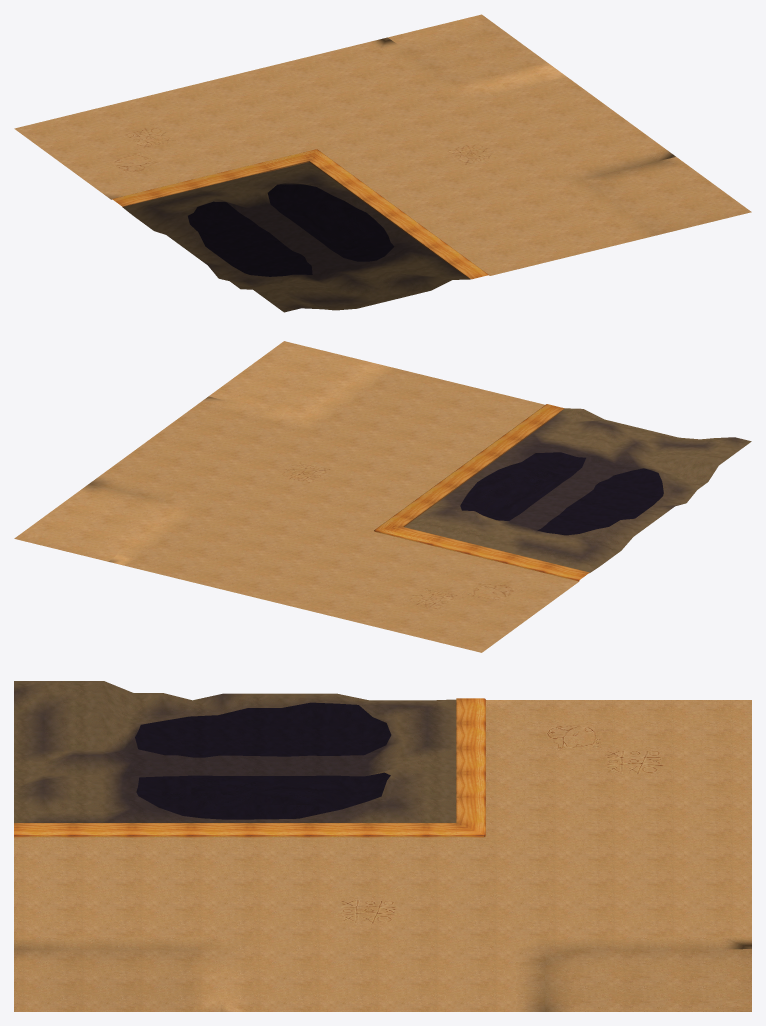
3 views of the same model, one above another, from view 1: azimuth 30°, elevation 25°; view 2: azimuth 150°, elevation 25°; view 3: azimuth 270°, elevation 25° (orthographic). The views are drawn at different scales.
Visible parts, largest first — view 1: Joint_0_Object_1, Joint_0_Object_6, Joint_0_Object_2, Joint_0_Object_0, Joint_0_Object_4, Joint_0_Object_7, Joint_0_Object_5; view 2: Joint_0_Object_1, Joint_0_Object_6, Joint_0_Object_2, Joint_0_Object_0, Joint_0_Object_5, Joint_0_Object_7, Joint_0_Object_4; view 3: Joint_0_Object_1, Joint_0_Object_6, Joint_0_Object_2, Joint_0_Object_0, Joint_0_Object_4, Joint_0_Object_7, Joint_0_Object_5.
Part boxes in pixels (bbox=[...]): Joint_0_Object_1: bbox=[14, 51, 601, 275]; Joint_0_Object_6: bbox=[332, 14, 751, 248]; Joint_0_Object_2: bbox=[122, 162, 470, 312]; Joint_0_Object_0: bbox=[112, 149, 488, 279]; Joint_0_Object_4: bbox=[443, 141, 501, 166]; Joint_0_Object_7: bbox=[121, 125, 179, 149]; Joint_0_Object_5: bbox=[106, 150, 163, 174]; Joint_0_Object_1: bbox=[164, 377, 578, 652]; Joint_0_Object_6: bbox=[14, 341, 433, 575]; Joint_0_Object_2: bbox=[404, 408, 751, 572]; Joint_0_Object_0: bbox=[374, 404, 589, 581]; Joint_0_Object_5: bbox=[461, 579, 519, 604]; Joint_0_Object_7: bbox=[402, 586, 460, 610]; Joint_0_Object_4: bbox=[275, 460, 333, 484]; Joint_0_Object_1: bbox=[14, 700, 751, 912]; Joint_0_Object_6: bbox=[14, 911, 751, 1011]; Joint_0_Object_2: bbox=[14, 681, 456, 822]; Joint_0_Object_0: bbox=[14, 698, 485, 837]; Joint_0_Object_4: bbox=[338, 899, 397, 924]; Joint_0_Object_7: bbox=[604, 750, 663, 774]; Joint_0_Object_5: bbox=[545, 725, 604, 749].
Size of the model in its own units: 10000 by 381 by 10000.
7 materials, 7 textured.
